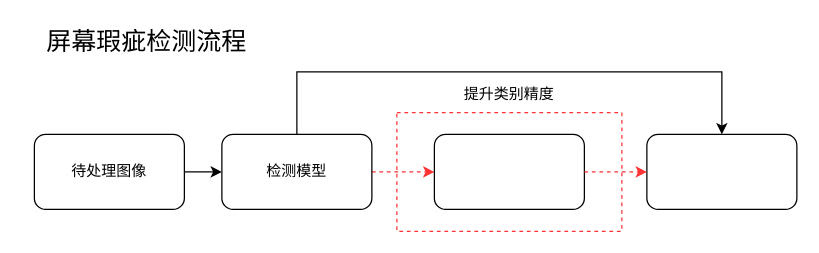
The diagram is 819 pixels wide and 253 high, and some of its shapes have lost their labels. The shapes that lost their labels are listed below. From the top down, each one's box as (x1, y1, x2, y2) in pixels, then its label:
(433, 133, 584, 209): 分类模型
(646, 133, 797, 209): 坐标、类别
